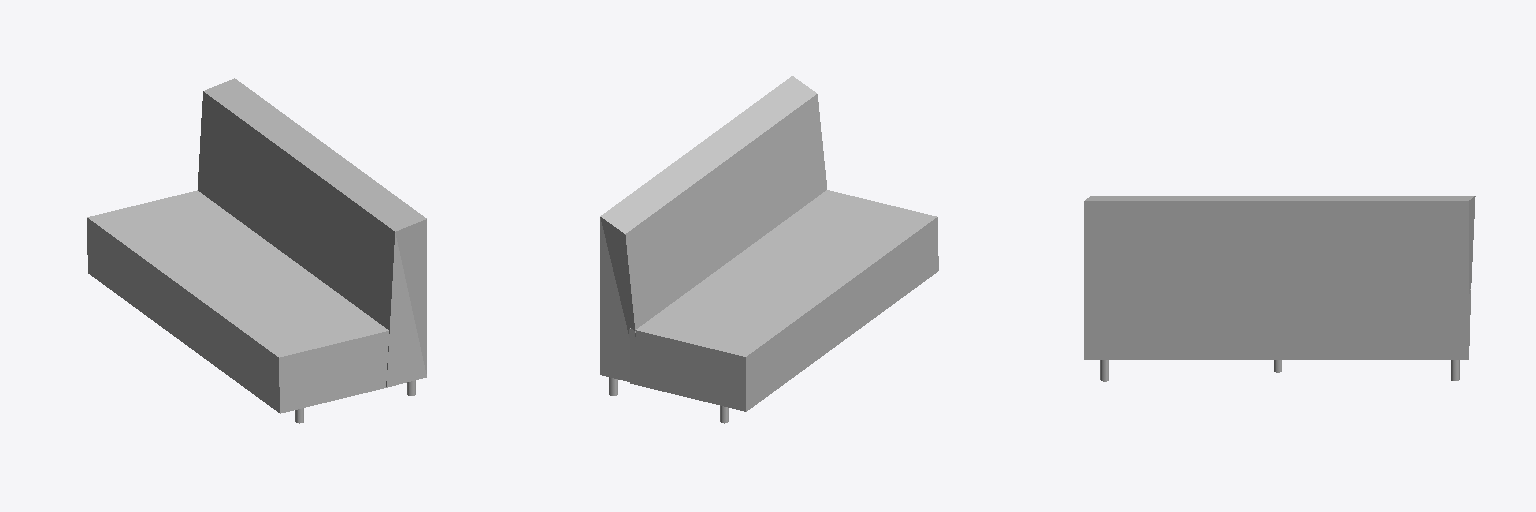
File: blue couch.obj
3 views of the same model, side by side, from view 1: azimuth 30°, elevation 25°; view 2: azimuth 150°, elevation 25°; view 3: azimuth 270°, elevation 25° (orthographic).
Parts seen in each view (by area): view 1: Cylinder.001_Cylinder.003; view 2: Cylinder.001_Cylinder.003; view 3: Cylinder.001_Cylinder.003.
Boxes of the visible parts, <box> form: Cylinder.001_Cylinder.003: <box>87,78,426,423</box>; Cylinder.001_Cylinder.003: <box>600,76,938,423</box>; Cylinder.001_Cylinder.003: <box>1084,196,1475,381</box>.
Bounding box in the file's own units: 1.73 × 2.05 × 4.